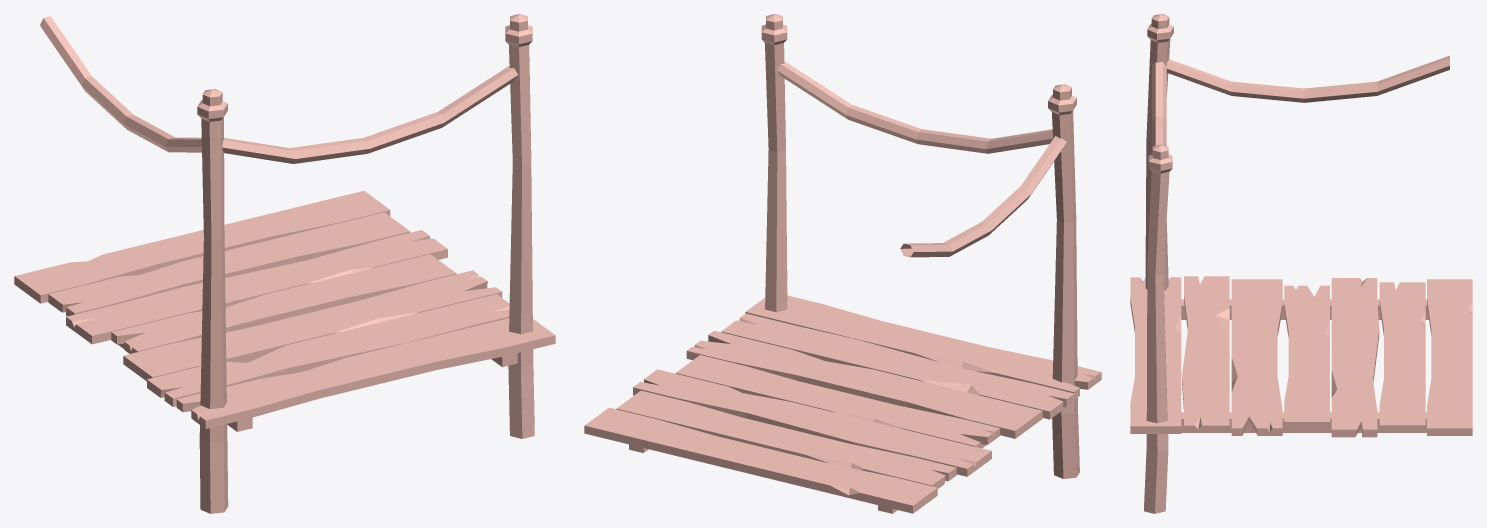
Rendered from Mega_Asset_s_Pack_Cube_271.FBX.
The picture shows the model from 3 angles, left to right: view 1: azimuth 30°, elevation 25°; view 2: azimuth 150°, elevation 25°; view 3: azimuth 270°, elevation 25°; orthographic projection. The views are drawn at different scales.
Parts seen in each view (by area): view 1: Mega_Asset_s_Pack_Cube_271; view 2: Mega_Asset_s_Pack_Cube_271; view 3: Mega_Asset_s_Pack_Cube_271.
Boxes of the visible parts, left/top/right/bottom form: Mega_Asset_s_Pack_Cube_271: left=14, top=14, right=555, bottom=513; Mega_Asset_s_Pack_Cube_271: left=584, top=14, right=1101, bottom=513; Mega_Asset_s_Pack_Cube_271: left=1130, top=14, right=1472, bottom=513.
Size of what is drawn, in the model's own units: 300 by 283 by 331.
